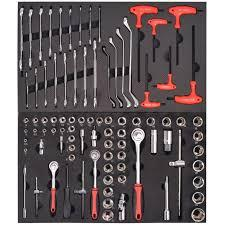wrench: (166, 21, 203, 106), (165, 3, 204, 66), (133, 4, 156, 81), (121, 15, 138, 108), (138, 52, 166, 108), (129, 126, 145, 221), (113, 25, 130, 108), (145, 16, 172, 64), (150, 44, 177, 91), (106, 34, 123, 107), (100, 43, 116, 107), (87, 148, 100, 220), (46, 159, 59, 216), (17, 4, 26, 71), (35, 5, 45, 61), (70, 47, 79, 108), (91, 37, 98, 109), (26, 5, 34, 67), (45, 6, 54, 58), (60, 51, 68, 108), (51, 51, 59, 108), (80, 44, 87, 108), (56, 4, 64, 52), (41, 59, 48, 108), (66, 5, 73, 49), (31, 65, 38, 108), (76, 3, 83, 46), (86, 3, 93, 44), (23, 70, 29, 109), (97, 5, 102, 44)
